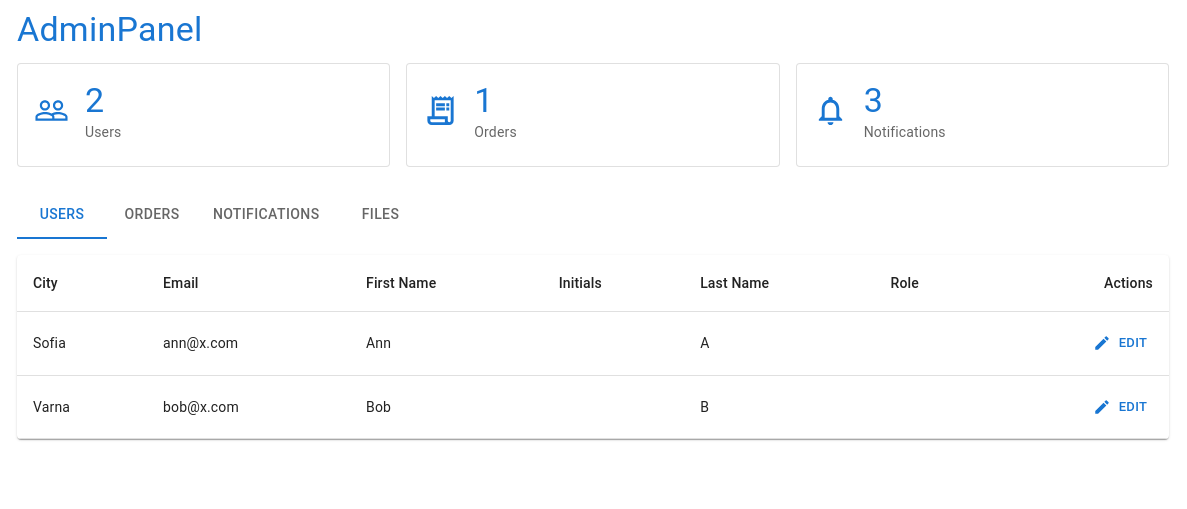
Scenario: shows tabs and counts for admins
The image size is (1187, 509).
Expected: the tab "Users" is shown, x1=17 y1=191 x2=107 y2=239
Expected: the tab "Orders" is shown, x1=107 y1=191 x2=197 y2=239
Click the tab "Notifications".
click(266, 215)  # box x1=197 y1=191 x2=336 y2=239
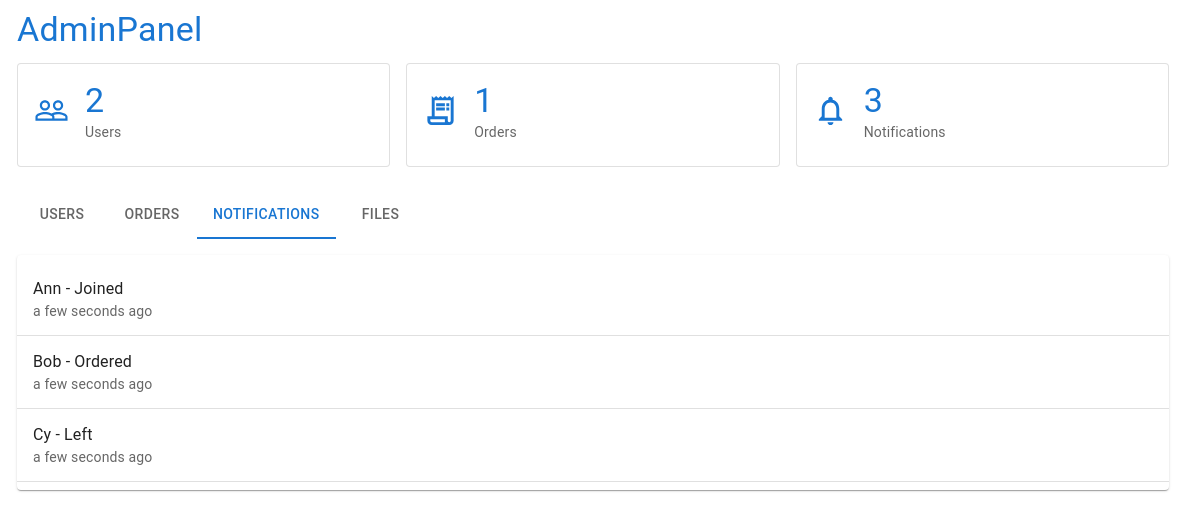
Result: the text "Ann - Joined" is shown at x1=33 y1=279 x2=124 y2=298
